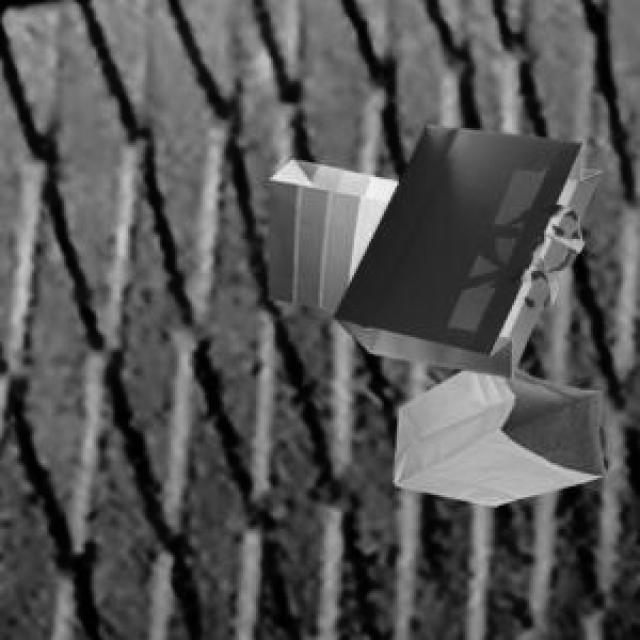paper: (331, 122, 597, 373), (390, 365, 602, 501), (265, 156, 395, 305)
